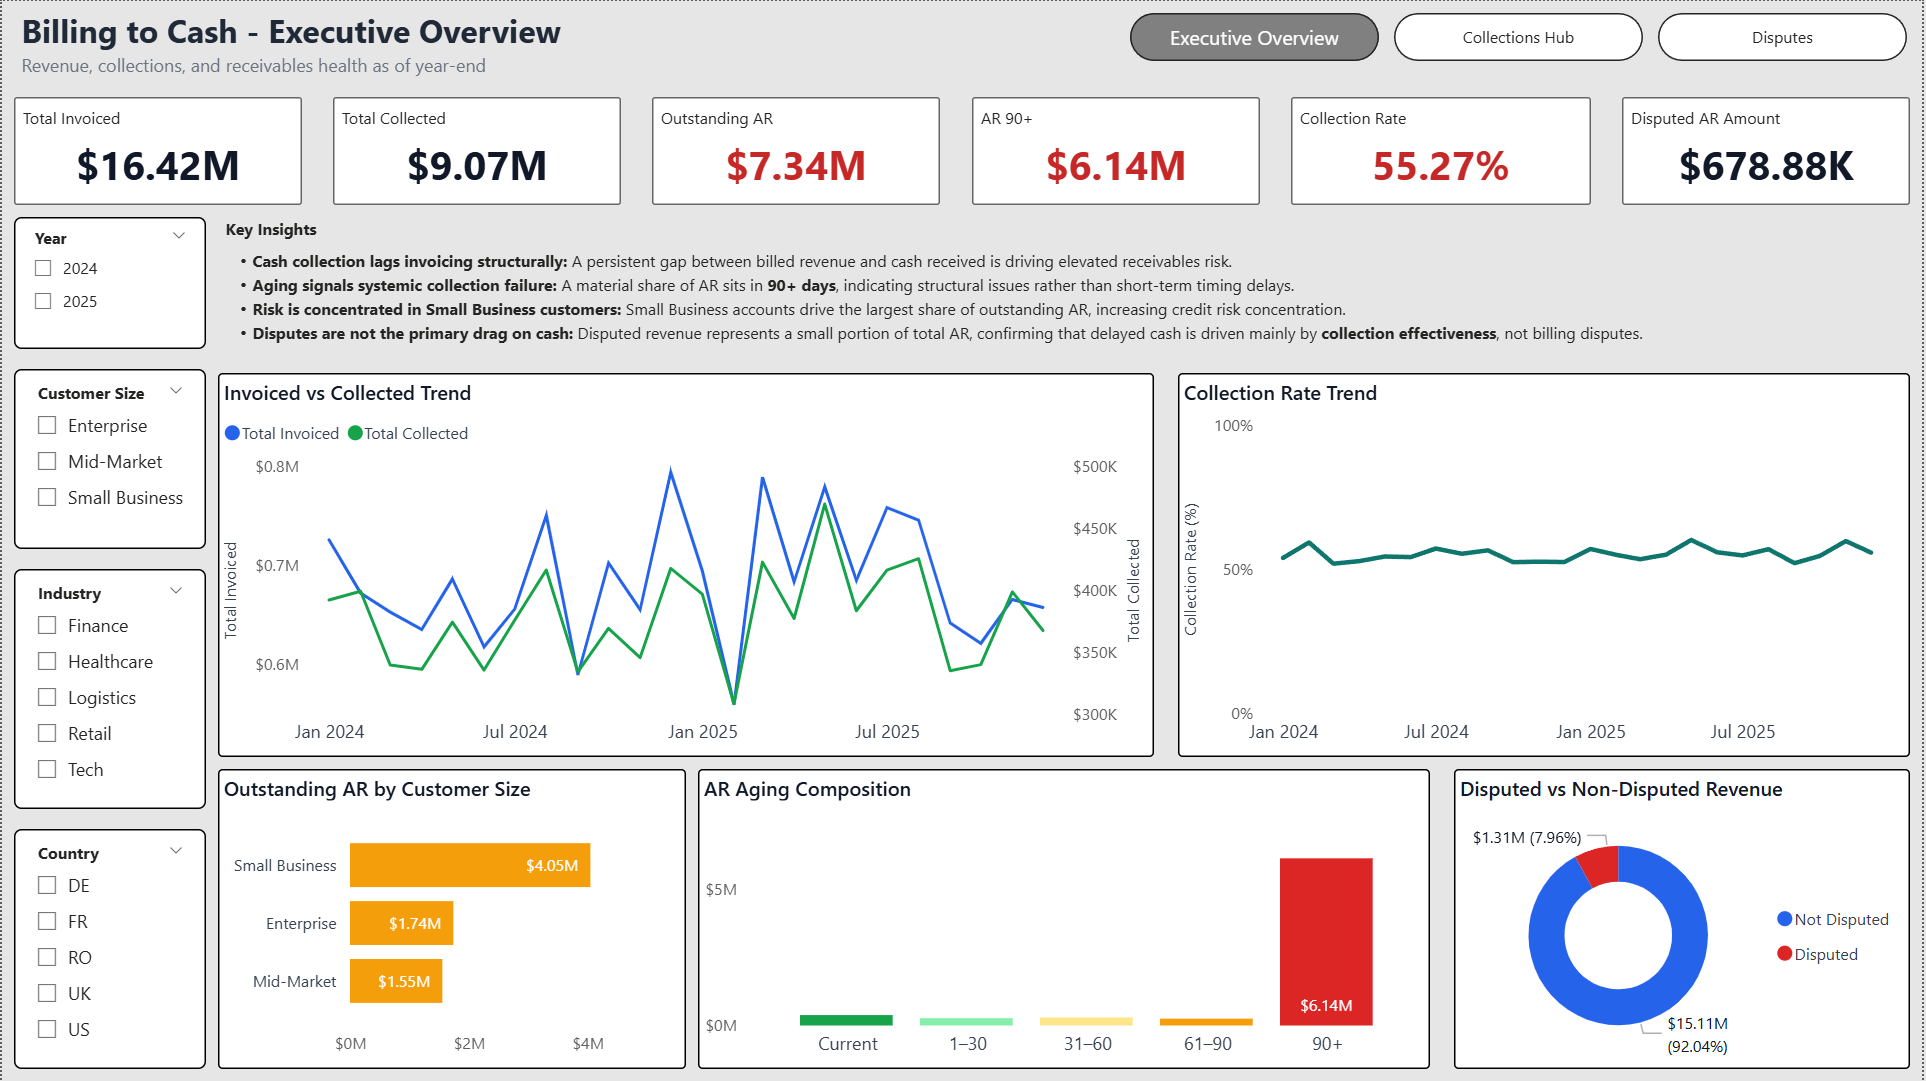

The dashboard page shown, as its layout file describes it:
{"tool":"powerbi","page":{"name":"Executive Overview","canvas":[1280,720],"ordinal":0},"visuals":[{"type":"textbox","box":[8,0,384,56],"z":0},{"type":"pageNavigator","box":[752,8,520,32],"z":1000},{"type":"slicer","title":"Year","fields":{"Values":["DimDate.Year"]},"box":[8,144,128,88],"z":2000},{"type":"slicer","fields":{"Values":["DimCustomer.CustomerSize"]},"box":[8,245.3,128,120],"z":3000},{"type":"slicer","fields":{"Values":["DimCustomer.Industry"]},"box":[8,378.7,128,160],"z":4000},{"type":"slicer","fields":{"Values":["DimCustomer.Country"]},"box":[8,552,128,160],"z":5000},{"type":"card","title":"Total Invoiced","fields":{"Values":["Calc_Measures.Total Invoiced"]},"box":[8,64,192,72],"z":6000},{"type":"card","title":"Total Collected","fields":{"Values":["Calc_Measures.Total Collected"]},"box":[220.8,64,192,72],"z":7000},{"type":"card","title":"Outstanding AR","fields":{"Values":["Calc_Measures.Outstanding AR"]},"box":[433.6,64,192,72],"z":8000},{"type":"card","title":"AR 90+","fields":{"Values":["Calc_Measures.AR 90+"]},"box":[646.4,64,192,72],"z":9000},{"type":"card","title":"Collection Rate","fields":{"Values":["Calc_Measures.Collection Rate (%)"]},"box":[859.2,64,200,72],"z":10000},{"type":"card","title":"Disputed AR Amount","fields":{"Values":["Calc_Measures.Disputed AR Amount"]},"box":[1080,64,192,72],"z":11000},{"type":"lineChart","title":"Invoiced vs Collected Trend","fields":{"Y":["Calc_Measures.Total Invoiced"],"Y2":["Calc_Measures.Total Collected"],"Category":["DimDate.YearMonth.Variation.Date Hierarchy.Year","DimDate.YearMonth.Variation.Date Hierarchy.Month"]},"box":[144,248,624,256],"z":12000},{"type":"textbox","title":"Key Insights","box":[144,144,1128,88],"z":13000},{"type":"lineChart","title":"Collection Rate Trend","fields":{"Y":["Calc_Measures.Collection Rate (%)"],"Category":["DimDate.Date.Variation.Date Hierarchy.Year","DimDate.Date.Variation.Date Hierarchy.Month"]},"box":[784,248,488,256],"z":14000},{"type":"clusteredBarChart","title":"Outstanding AR by Customer Size","fields":{"Category":["DimCustomer.CustomerSize"],"Y":["Calc_Measures.Outstanding AR"]},"box":[144,512,312,200],"z":15000},{"type":"columnChart","title":"AR Aging Composition","fields":{"Y":["Calc_Measures.Outstanding AR"],"Category":["DimAgingBucket.Aging Bucket"]},"box":[464,512,488,200],"z":16000},{"type":"donutChart","title":"Disputed vs Non-Disputed Revenue","fields":{"Y":["Calc_Measures.Total Invoiced"],"Category":["FactInvoices.Dispute Status"]},"box":[968,512,304,200],"z":17000}]}

Visuals, with their boxes in screenshot pixels (x1, y1, x2, y2), scaled from the page's 1280x720 canvas onto the 1926x1081 screenshot:
textbox: 12, 0, 590, 84
pageNavigator: 1132, 12, 1914, 60
"Year" slicer: 12, 216, 205, 348
slicer - DimCustomer.CustomerSize: 12, 368, 205, 548
slicer - DimCustomer.Industry: 12, 569, 205, 809
slicer - DimCustomer.Country: 12, 829, 205, 1069
"Total Invoiced" card: 12, 96, 301, 204
"Total Collected" card: 332, 96, 621, 204
"Outstanding AR" card: 652, 96, 941, 204
"AR 90+" card: 973, 96, 1262, 204
"Collection Rate" card: 1293, 96, 1594, 204
"Disputed AR Amount" card: 1625, 96, 1914, 204
"Invoiced vs Collected Trend" lineChart: 217, 372, 1156, 757
"Key Insights" textbox: 217, 216, 1914, 348
"Collection Rate Trend" lineChart: 1180, 372, 1914, 757
"Outstanding AR by Customer Size" clusteredBarChart: 217, 769, 686, 1069
"AR Aging Composition" columnChart: 698, 769, 1432, 1069
"Disputed vs Non-Disputed Revenue" donutChart: 1457, 769, 1914, 1069
